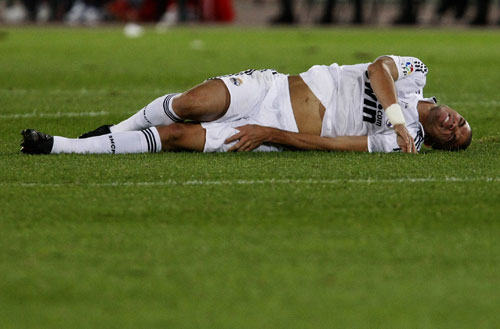down: (7, 29, 475, 183)
